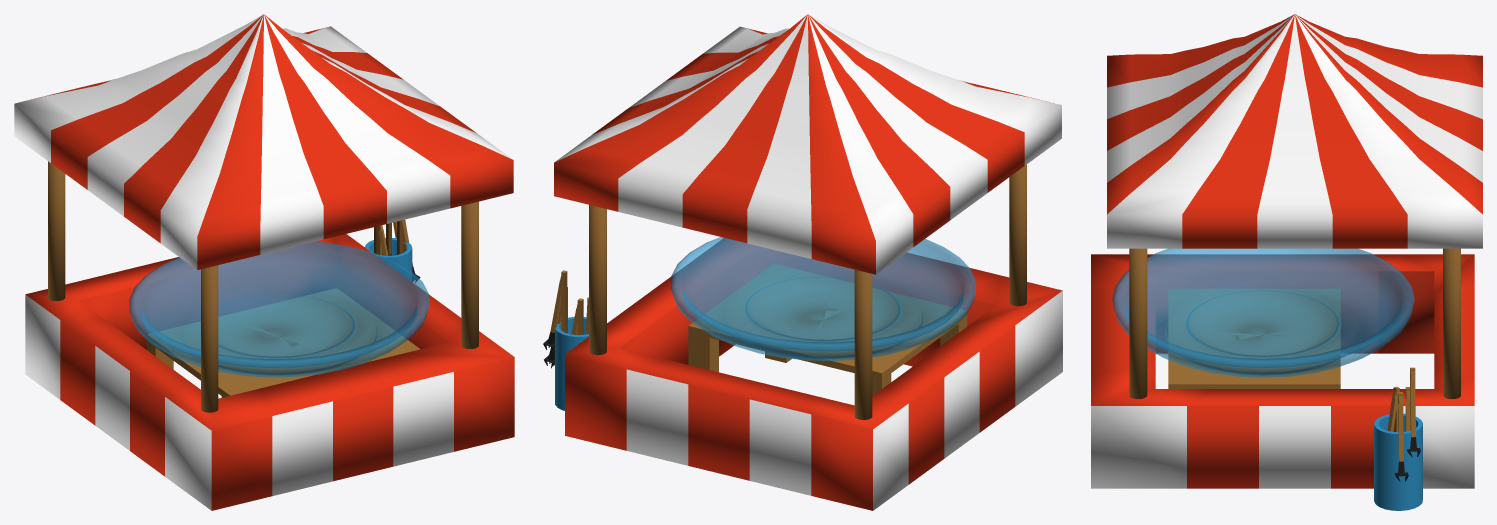
The model's file is JuegoPatosEstructura.fbx.
The picture shows the model from 3 angles, left to right: view 1: azimuth 30°, elevation 25°; view 2: azimuth 150°, elevation 25°; view 3: azimuth 270°, elevation 25°; orthographic projection. The views are drawn at different scales.
Visible parts, largest first — view 1: Cube.003, Cylinder; view 2: Cube.003, Cylinder, Cube.006; view 3: Cube.003, Cylinder, Cube.005, Cube.006.
Part boxes in pixels (box(x1,y1,x2,y2)): Cube.003: box(14, 14, 514, 510); Cylinder: box(365, 238, 412, 281); Cube.003: box(554, 14, 1062, 510); Cylinder: box(555, 316, 588, 410); Cube.006: box(543, 270, 567, 352); Cube.003: box(1091, 14, 1482, 488); Cylinder: box(1374, 413, 1422, 510); Cube.005: box(1394, 392, 1408, 481); Cube.006: box(1407, 367, 1420, 457).
Size of the model in its own units: 391 by 411 by 355.
6 materials, 6 textured.
